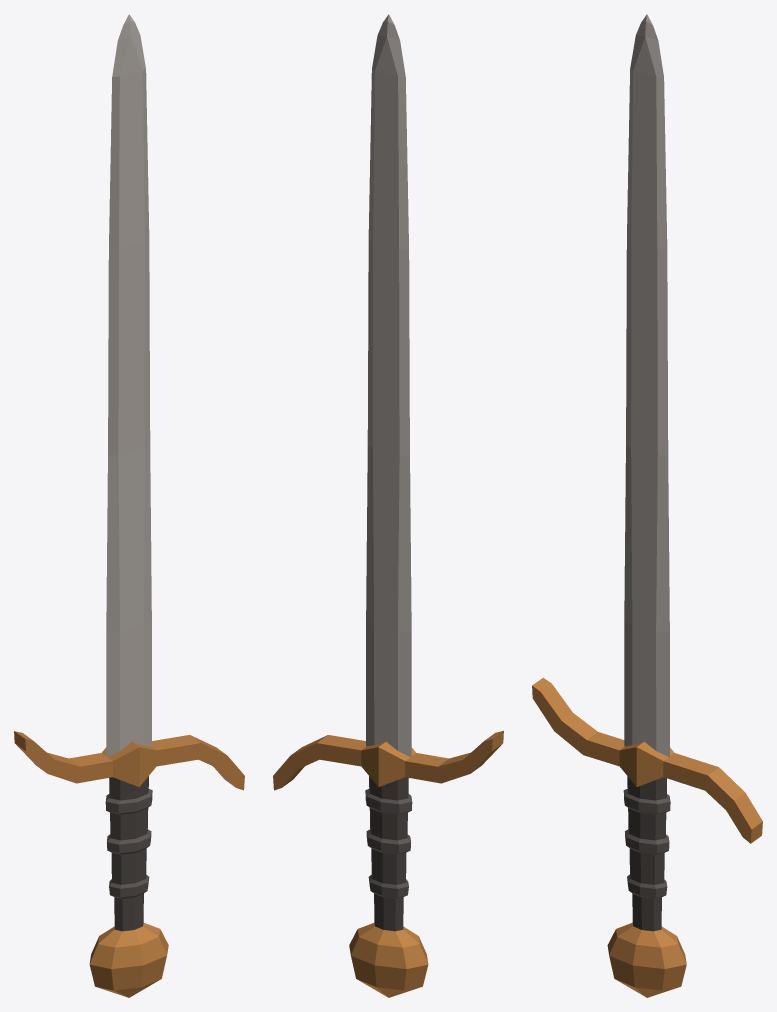
The model's file is SM_pwe_fantasy_sword_05.fbx.
3 views of the same model, side by side, from view 1: azimuth 30°, elevation 25°; view 2: azimuth 150°, elevation 25°; view 3: azimuth 330°, elevation 25° (orthographic).
Parts seen in each view (by area): view 1: SM_pwe_fantasy_sword_05; view 2: SM_pwe_fantasy_sword_05; view 3: SM_pwe_fantasy_sword_05.
Boxes of the visible parts, <box> form: SM_pwe_fantasy_sword_05: <box>14,14,244,997</box>; SM_pwe_fantasy_sword_05: <box>273,14,503,997</box>; SM_pwe_fantasy_sword_05: <box>532,14,762,997</box>.
Bounding box in the file's own units: 27.03 × 116 × 6.07.
